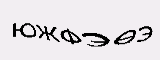Г: (38, 21, 51, 38)
М: (95, 15, 117, 40)
Э: (59, 16, 71, 41), (51, 18, 60, 41)
Ю: (72, 14, 93, 41)
